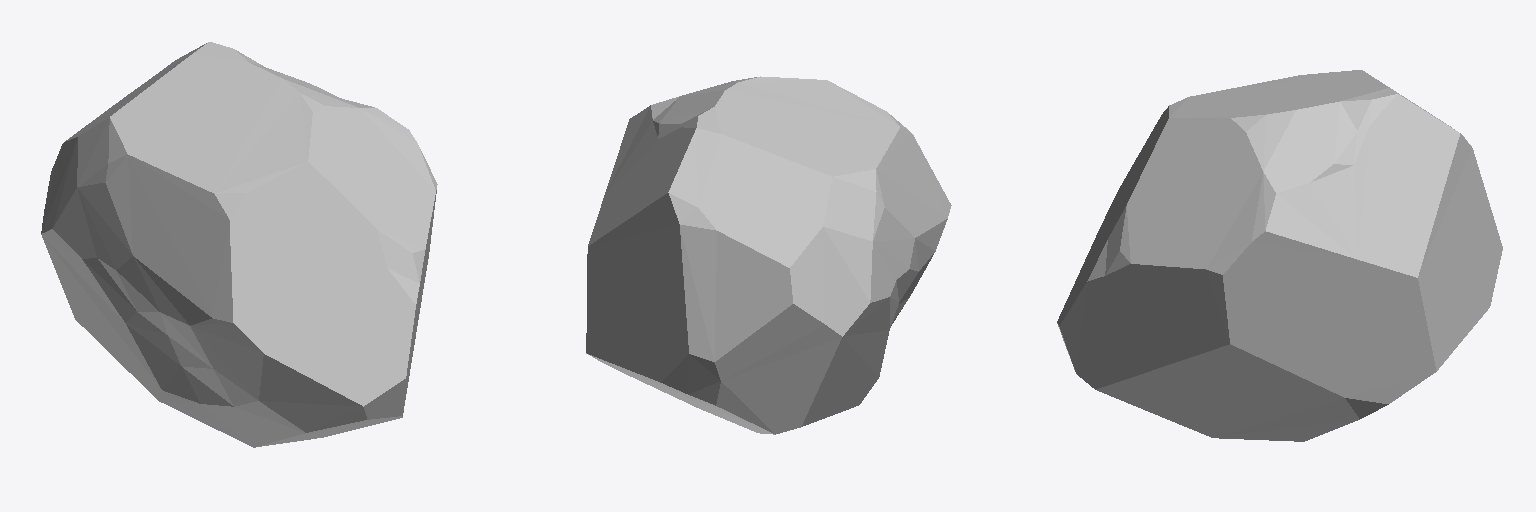
The model's file is rocks_detail_3.obj.
3 views of the same model, side by side, from view 1: azimuth 30°, elevation 25°; view 2: azimuth 150°, elevation 25°; view 3: azimuth 270°, elevation 25° (orthographic).
Parts seen in each view (by area): view 1: Cube.014_Cube.026; view 2: Cube.014_Cube.026; view 3: Cube.014_Cube.026.
Part boxes in pixels (x1,y1,x2,y2): Cube.014_Cube.026: (41,42,437,447); Cube.014_Cube.026: (586,76,951,434); Cube.014_Cube.026: (1057,70,1502,441).
Size of the model in its own units: 2.32 by 2.44 by 2.93.